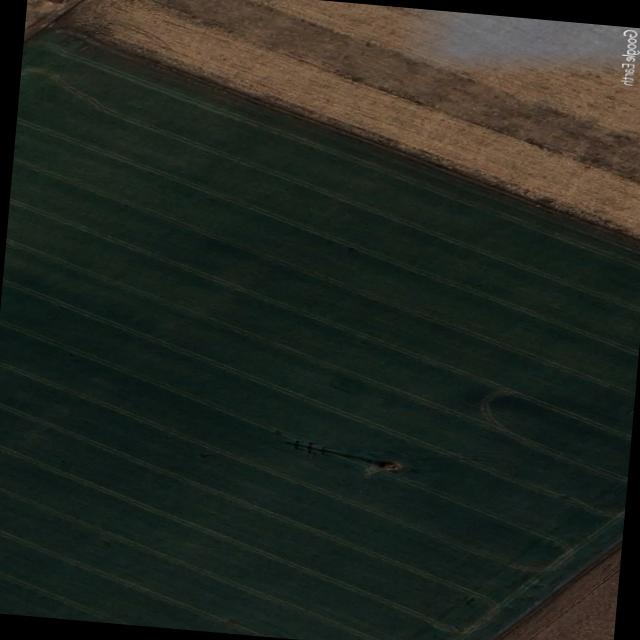bare-soil: (23, 0, 640, 241), (491, 539, 622, 640)
building: (370, 454, 408, 476)
grass: (0, 25, 640, 640)
